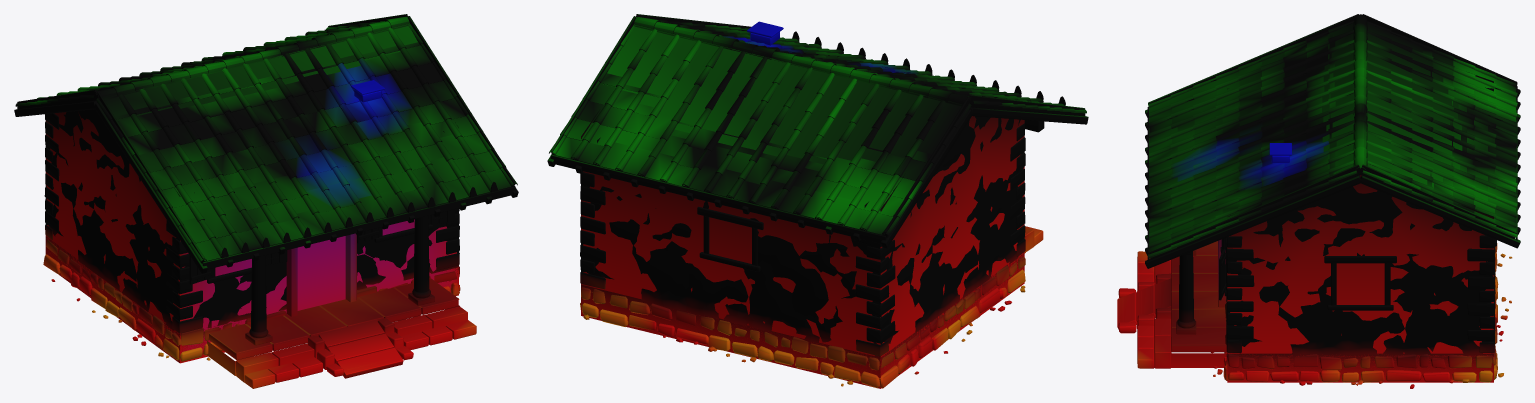
File: valdora_t3_portico.glb
The picture shows the model from 3 angles, left to right: view 1: azimuth 30°, elevation 25°; view 2: azimuth 150°, elevation 25°; view 3: azimuth 270°, elevation 25°; orthographic projection. The views are drawn at different scales.
Visible parts, largest first — view 1: valdora_t3_portico_shell, valdora_t3_portico_far, valdora_t3_portico_detail; view 2: valdora_t3_portico_shell, valdora_t3_portico_far, valdora_t3_portico_detail; view 3: valdora_t3_portico_shell, valdora_t3_portico_far, valdora_t3_portico_detail.
Boxes of the visible parts, x1,y1,x2,y2 form: valdora_t3_portico_shell: (14,14,518,388); valdora_t3_portico_far: (45,24,458,360); valdora_t3_portico_detail: (51,80,497,369); valdora_t3_portico_shell: (547,14,1088,388); valdora_t3_portico_far: (581,25,1024,377); valdora_t3_portico_detail: (583,21,1065,386); valdora_t3_portico_shell: (1117,14,1520,382); valdora_t3_portico_far: (1227,22,1493,378); valdora_t3_portico_detail: (1122,107,1512,388).
Size of the model in its own units: 6.83 by 4.73 by 7.56.
